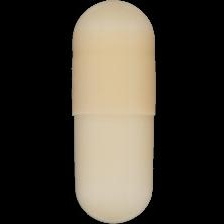49349-865: (0, 0, 224, 224)
